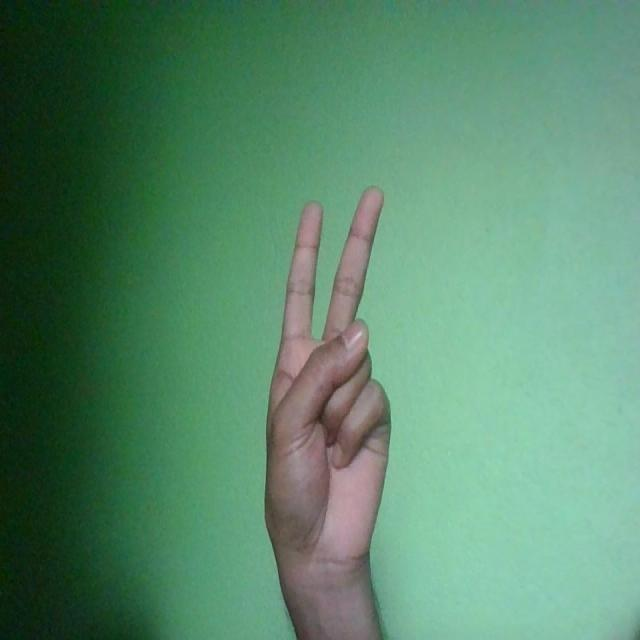Fist: (265, 183, 393, 574)
